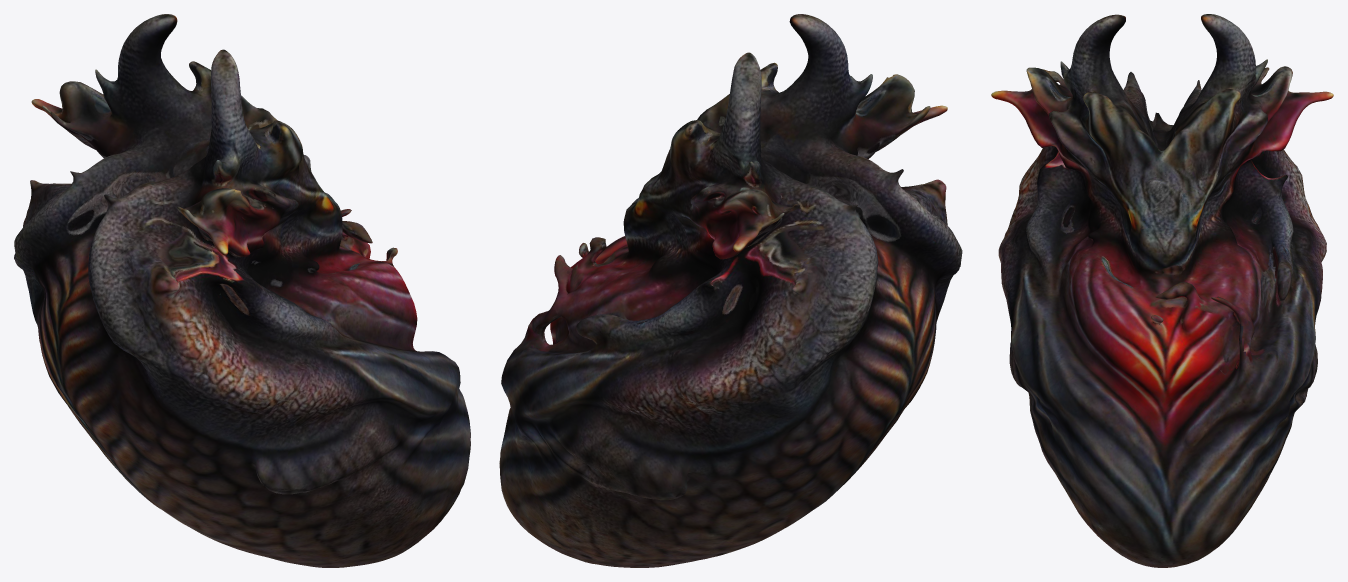
Rendered from Dragon Heart.fbx.
3 renders of one model, left to right at view 1: azimuth 30°, elevation 25°; view 2: azimuth 150°, elevation 25°; view 3: azimuth 270°, elevation 25°, orthographic. The views are drawn at different scales.
Visible parts, largest first — view 1: mesh; view 2: mesh; view 3: mesh.
Boxes of the visible parts, bbox=[...] form: mesh: bbox=[14, 14, 470, 567]; mesh: bbox=[499, 14, 962, 567]; mesh: bbox=[991, 14, 1333, 567].
Bounding box in the file's own units: 72.84 × 99.58 × 64.81.
